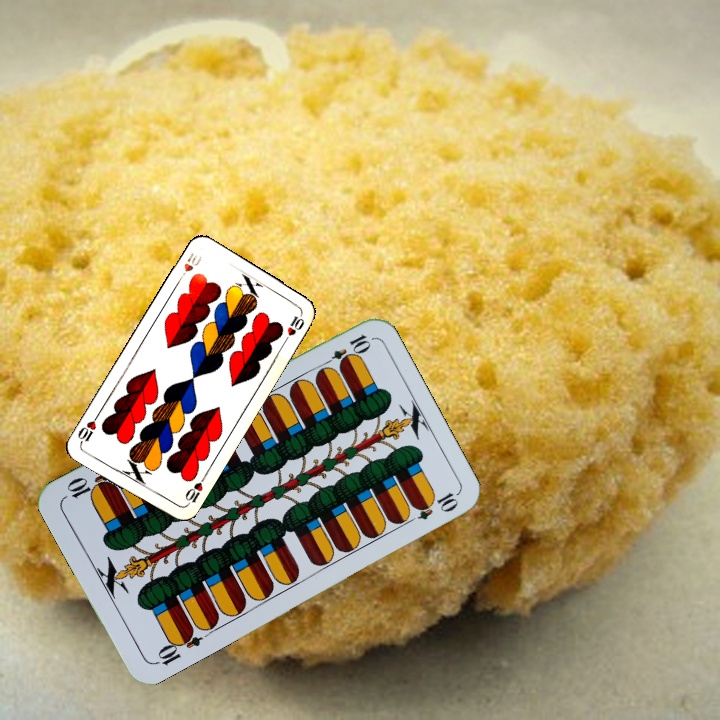E10: (150, 624, 205, 668), (318, 330, 373, 371)
H10: (174, 248, 204, 284), (181, 472, 208, 509)
